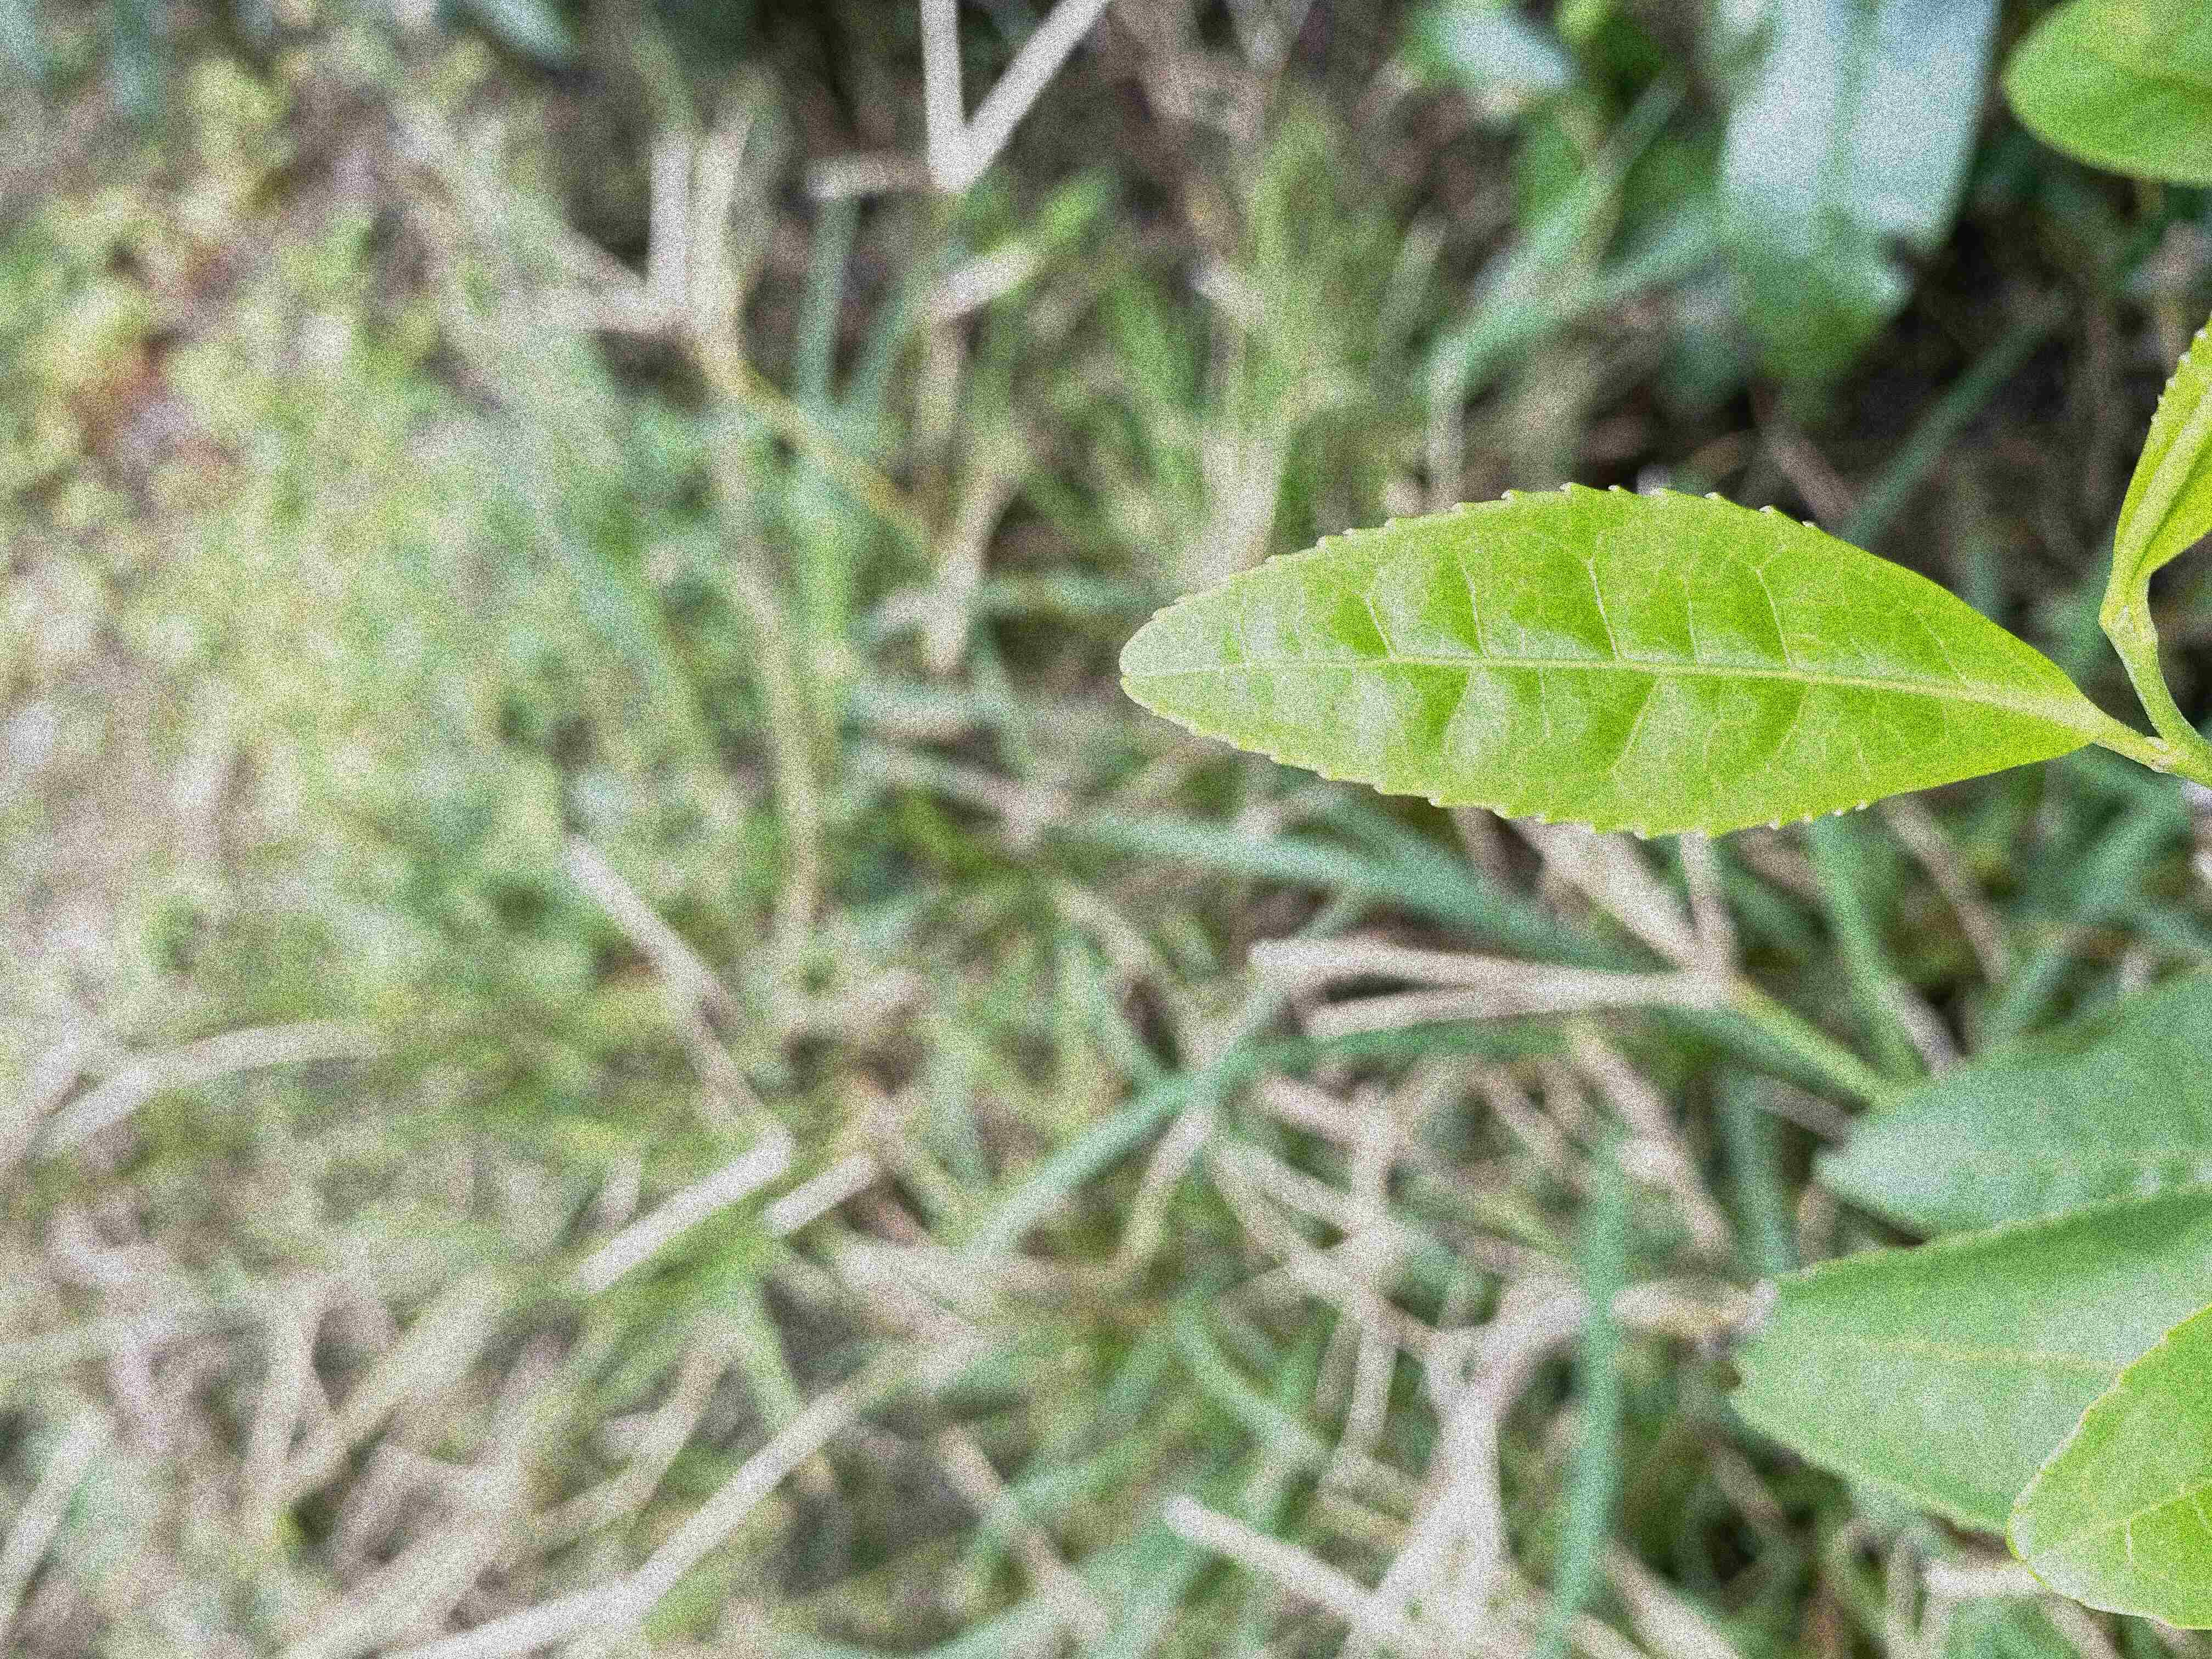healthy: (1118, 479, 2088, 840)
